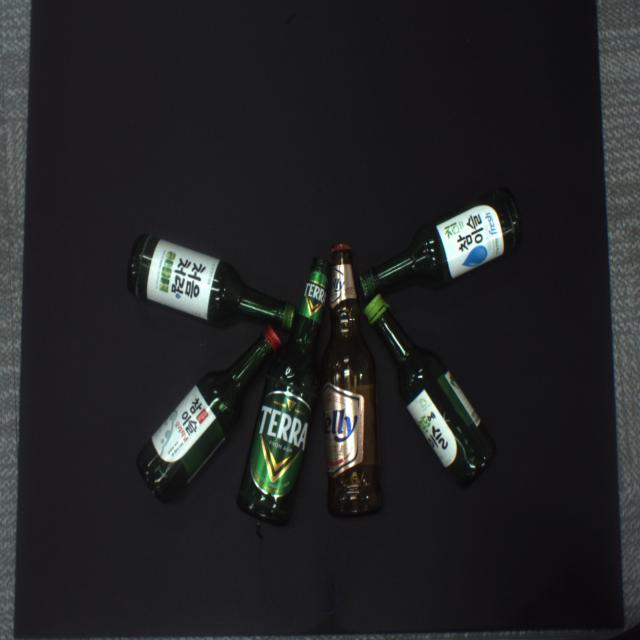beer-bottle: (238, 258, 331, 523), (321, 243, 383, 515)
soju-bottle: (136, 325, 282, 505), (364, 295, 495, 486), (359, 188, 522, 301), (127, 234, 296, 332)
